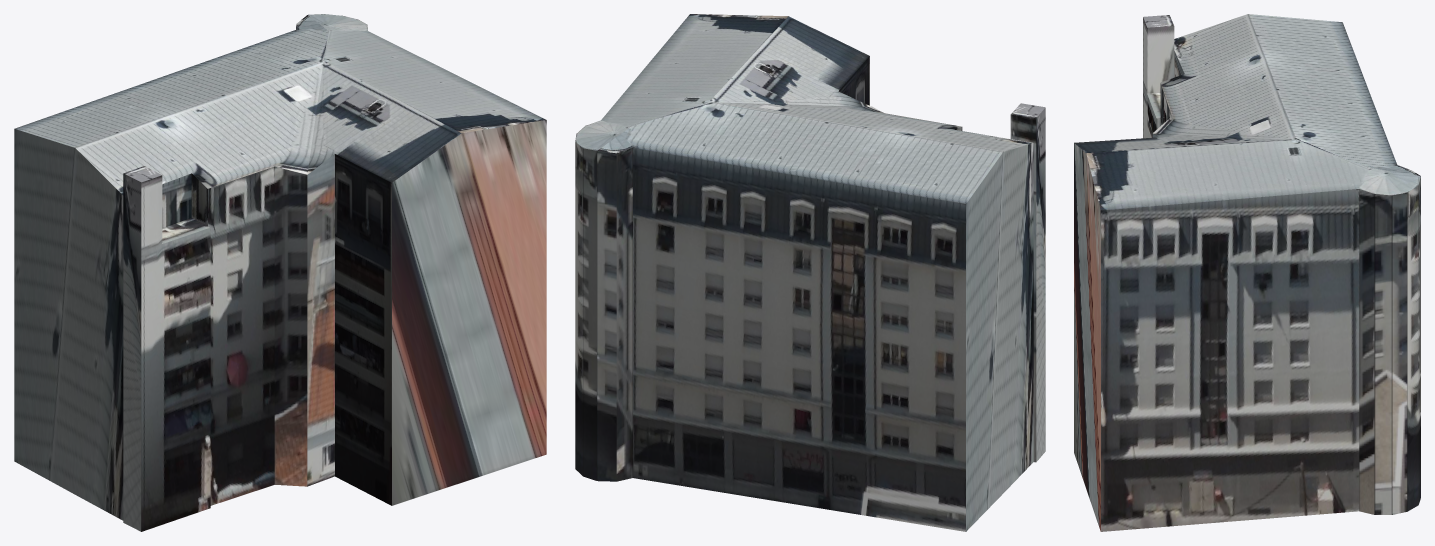
The picture shows the model from 3 angles, left to right: view 1: azimuth 30°, elevation 25°; view 2: azimuth 150°, elevation 25°; view 3: azimuth 270°, elevation 25°; orthographic projection. The views are drawn at different scales.
Parts seen in each view (by area): view 1: Z_UP; view 2: Z_UP; view 3: Z_UP.
Boxes of the visible parts, x1=… form: Z_UP: x1=14, y1=14, x2=546, y2=531; Z_UP: x1=575, y1=14, x2=1045, y2=531; Z_UP: x1=1074, y1=14, x2=1420, y2=531.
Bounding box in the file's own units: 28.59 × 23.51 × 22.02.
2 materials, 1 textured.
